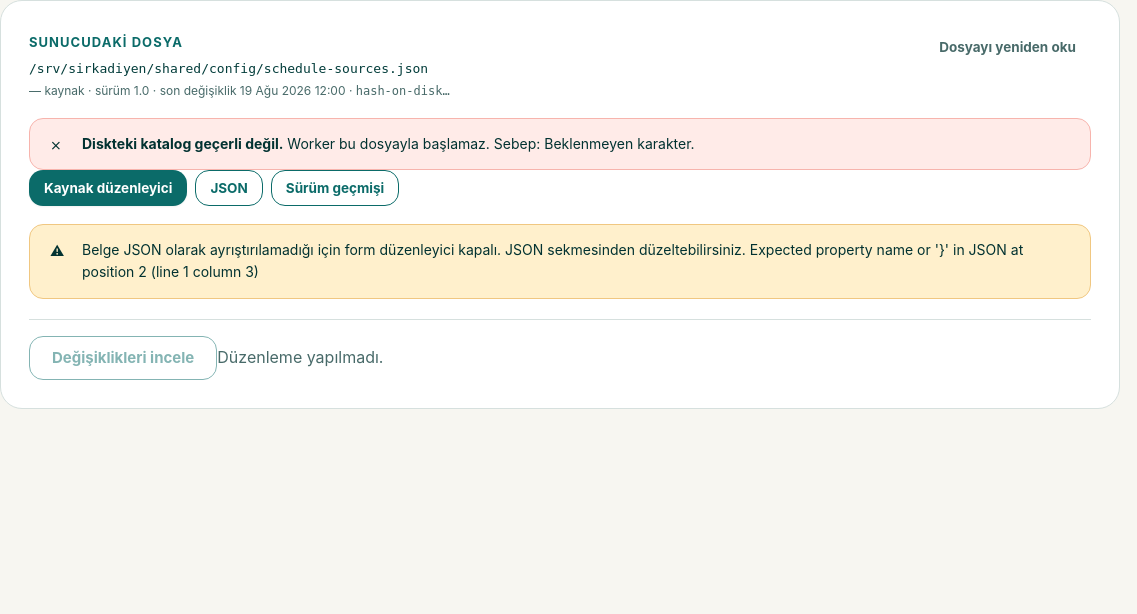
Test: SourceCatalogEditor › keeps the raw JSON editor usable when the document does not parse
Expected: the text "/srv/sirkadiyen/shared/config/schedule-sources.json" is shown, [29,59,450,79]
Expected: the text "Diskteki katalog geçerli değil." is shown, [82,135,283,152]
Click the tab "JSON" at point(229, 188), box [195,170,263,206]
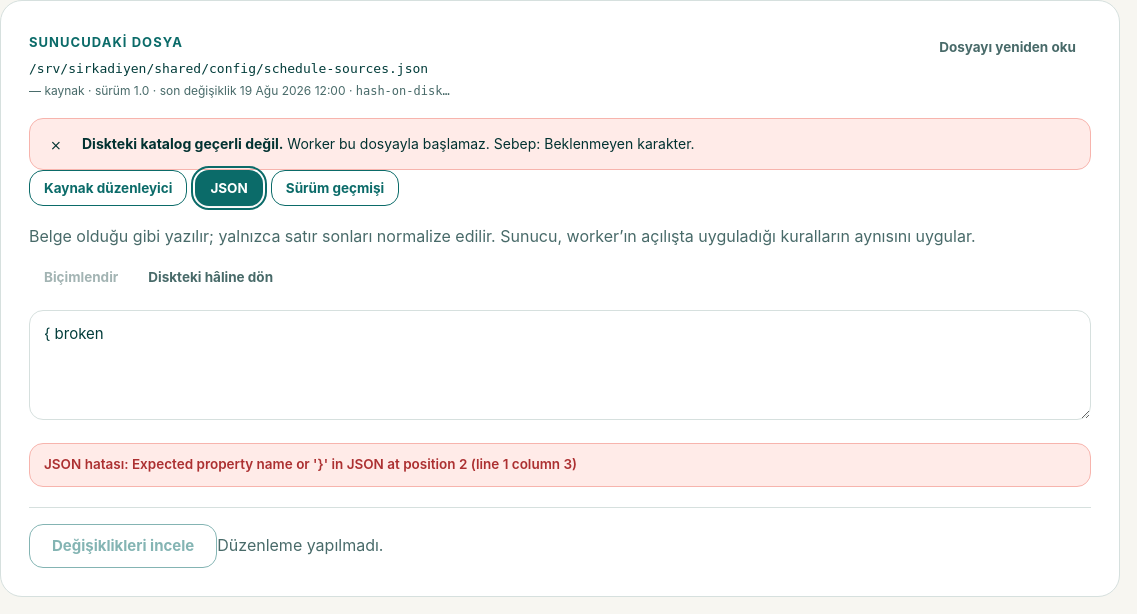
Expected: the text box named "Katalog JSON belgesi" holds "{ broken", [29,310,1091,420]
